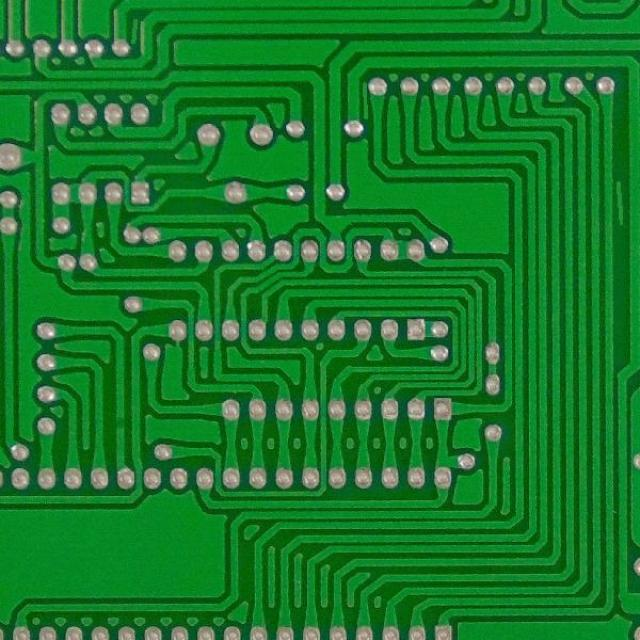spurious_copper: (609, 177, 630, 229), (356, 79, 378, 125), (126, 15, 141, 49)
